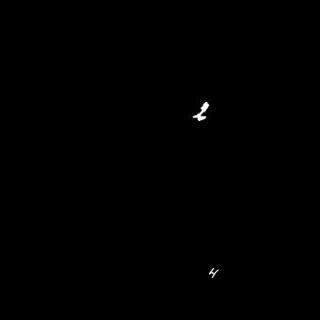four: (207, 264, 229, 281)
two: (191, 99, 209, 123)
